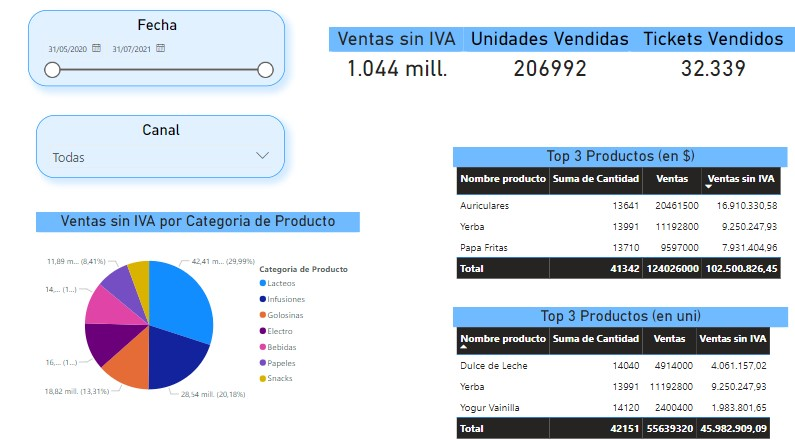

Layout of this report page (visuals, bound fields, positions):
{"tool":"powerbi","page":{"name":"Productos","canvas":[1280,720],"ordinal":1},"visuals":[{"type":"card","title":"Ventas sin IVA","fields":{"Values":["Tickets.Ventas sin IVA"]},"box":[532.9,20,214.3,91.4],"z":0},{"type":"card","title":"Unidades Vendidas","fields":{"Values":["Sum(Tickets.Cantidad)"]},"box":[747.1,20,272.9,91.4],"z":1},{"type":"card","title":"Tickets Vendidos","fields":{"Values":["Count(Tickets.Ticket)"]},"box":[1008.6,20,271.4,90],"z":2},{"type":"slicer","title":"Canal","fields":{"Values":["Tickets.Canal"]},"box":[62.9,138.6,395.7,100],"z":3},{"type":"slicer","title":"Fecha","fields":{"Values":["Tickets.Fecha"]},"box":[50,1.4,408.6,120],"z":4},{"type":"pieChart","fields":{"Category":["Productos.Categoria de Producto"],"Y":["Tickets.Ventas sin IVA"]},"box":[177.1,332.9,514.3,332.9],"z":5},{"type":"tableEx","title":"Top 3 Productos (en $)","fields":{"Values":["Productos.Nombre producto","Sum(Tickets.Cantidad)","Tickets.Ventas","Tickets.Ventas sin IVA"]},"box":[725.7,238.6,531.4,235.7],"z":6},{"type":"tableEx","title":"Top 3 Productos (en uni)","fields":{"Values":["Productos.Nombre producto","Sum(Tickets.Cantidad)","Tickets.Ventas","Tickets.Ventas sin IVA"]},"box":[747.1,491.4,512.9,228.6],"z":7}]}

Visuals, with their boxes in screenshot pixels (x1, y1, x2, y2), scaled from the page's 1280x720 canvas onto the 795x443 screenshot:
"Ventas sin IVA" card: 331/12/464/69
"Unidades Vendidas" card: 464/12/634/69
"Tickets Vendidos" card: 626/12/794/68
"Canal" slicer: 39/85/285/147
"Fecha" slicer: 31/1/285/75
pieChart - Productos.Categoria de Producto x Tickets.Ventas sin IVA: 110/205/429/410
"Top 3 Productos (en $)" tableEx: 451/147/781/292
"Top 3 Productos (en uni)" tableEx: 464/302/783/442
